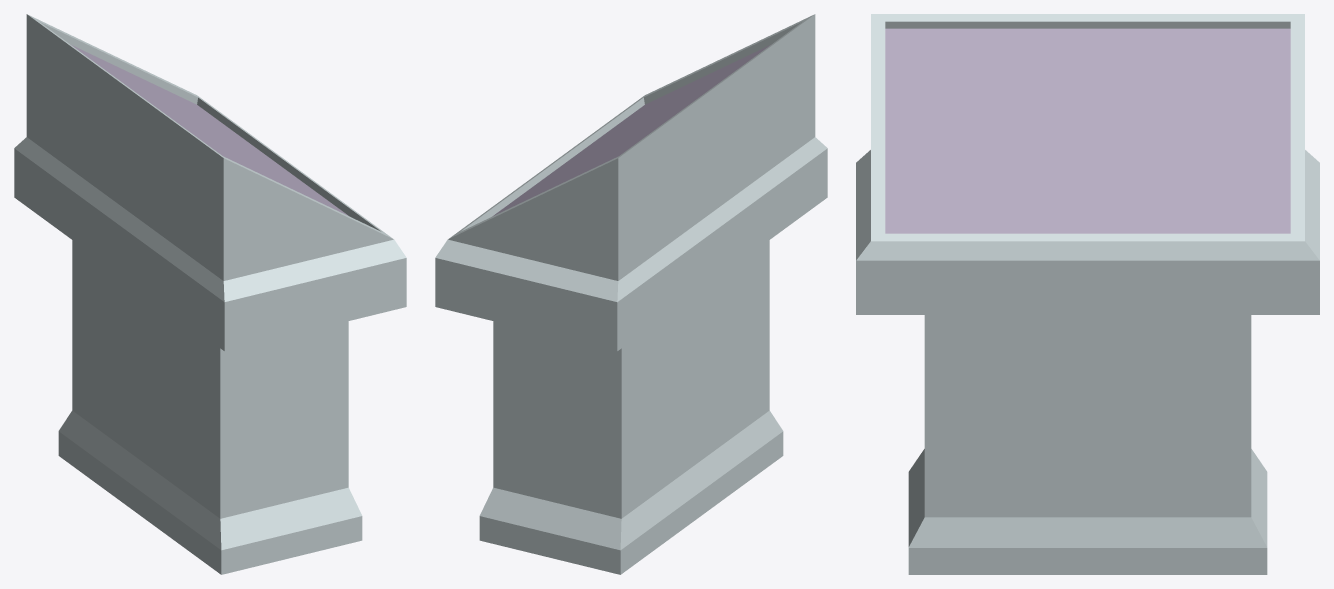
File: panel.glb
The picture shows the model from 3 angles, left to right: view 1: azimuth 30°, elevation 25°; view 2: azimuth 150°, elevation 25°; view 3: azimuth 270°, elevation 25°; orthographic projection. The views are drawn at different scales.
Parts seen in each view (by area): view 1: Plane; view 2: Plane; view 3: Plane.
Boxes of the visible parts, <box> form: Plane: <box>14,14,406,574</box>; Plane: <box>435,14,827,574</box>; Plane: <box>856,14,1319,574</box>.
Bounding box in the file's own units: 7.75 × 17.6 × 15.5.
